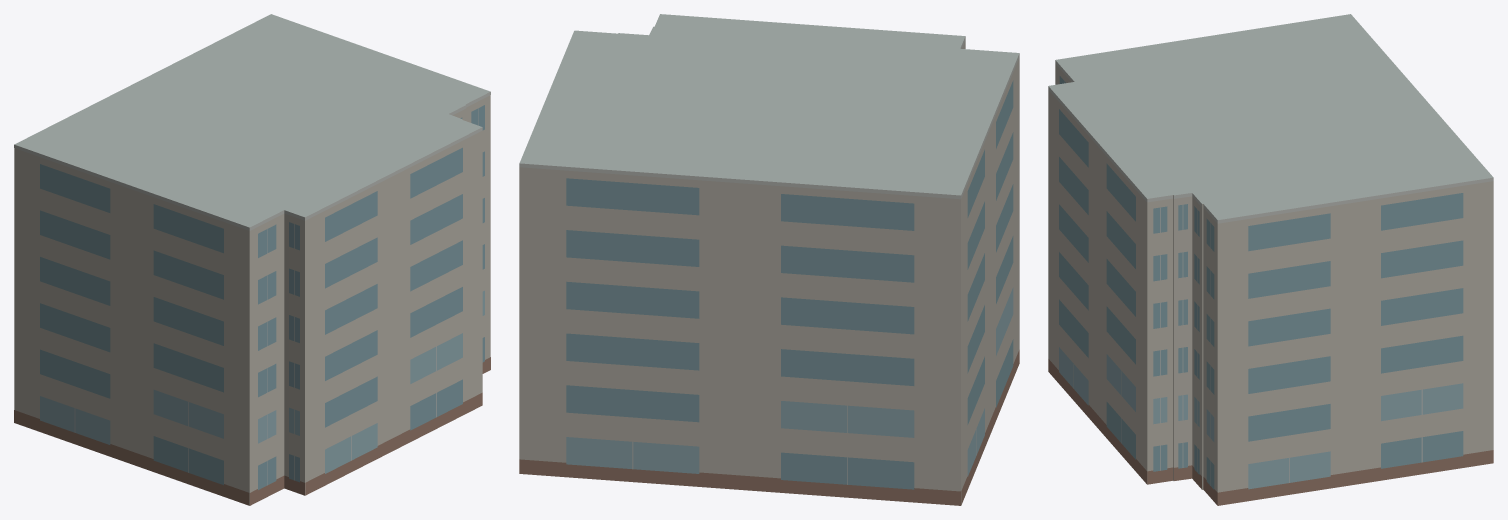
The model's file is survey-upis-32856925.glb.
3 renders of one model, left to right at view 1: azimuth 30°, elevation 25°; view 2: azimuth 150°, elevation 25°; view 3: azimuth 270°, elevation 25°, orthographic. The views are drawn at different scales.
Parts seen in each view (by area): view 1: survey-upis-32856925.tmp; view 2: survey-upis-32856925.tmp; view 3: survey-upis-32856925.tmp.
Boxes of the visible parts, x1=… form: survey-upis-32856925.tmp: x1=14, y1=14, x2=490, y2=505; survey-upis-32856925.tmp: x1=519, y1=14, x2=1019, y2=505; survey-upis-32856925.tmp: x1=1048, y1=14, x2=1493, y2=505.
Bounding box in the file's own units: 30.83 × 19.91 × 28.14.
